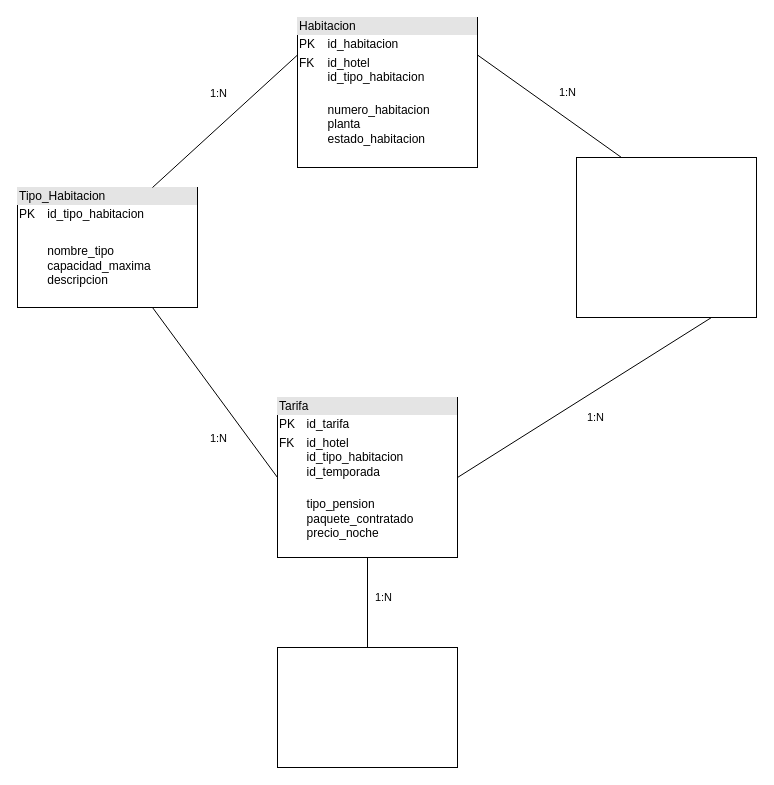
The diagram is 774 pixels wide and 785 high, and some of its shapes have lost their labels. The shapes that lost their labels are listed below. From the top down, each one's box as (x1, y1, x2, y2) in pixels, then its label:
(576, 156, 756, 318): Hotel PK id_hotel nombre_hotel categoria ciudad provincia comunidad_autonoma
(276, 646, 458, 768): Temporada PK id_temporada nombre_temporada fecha_inicio fecha_fin
